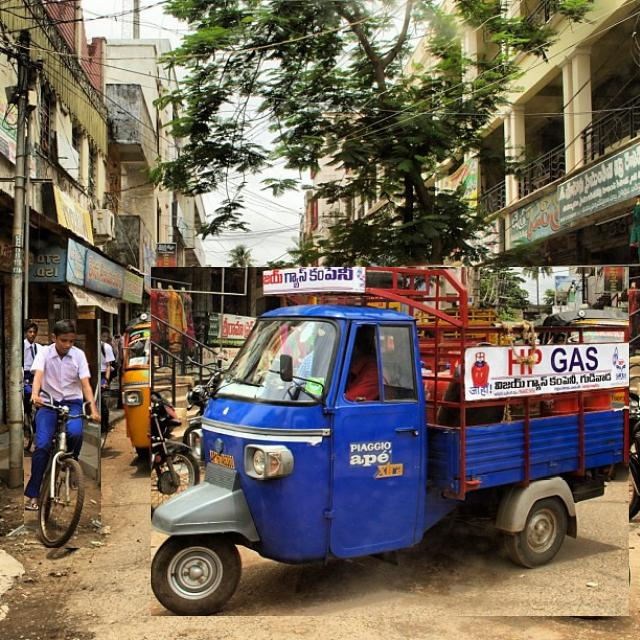autorickshaw: (151, 267, 629, 616), (121, 310, 239, 456)
bicycle: (24, 320, 101, 548)
